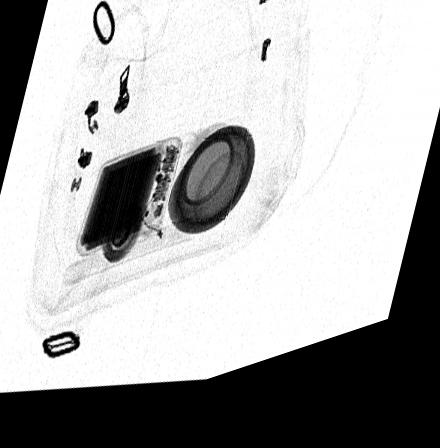Powerbank: (75, 147, 184, 261)
